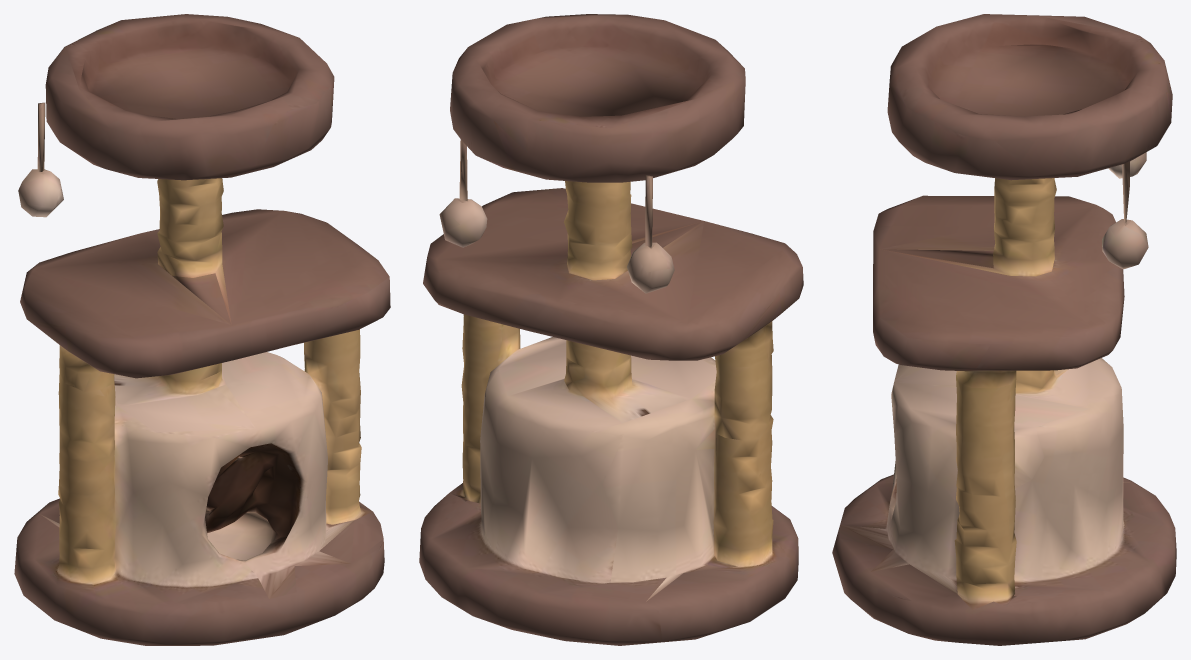
File: cattower.glb
The picture shows the model from 3 angles, left to right: view 1: azimuth 30°, elevation 25°; view 2: azimuth 150°, elevation 25°; view 3: azimuth 270°, elevation 25°; orthographic projection. The views are drawn at different scales.
Visible parts, largest first — view 1: model; view 2: model; view 3: model.
Boxes of the visible parts, box(x1,y1,x2,y2) form: model: box(14, 14, 390, 645); model: box(419, 14, 803, 645); model: box(832, 14, 1176, 645).
Size of the model in its own units: 1.27 by 1.9 by 1.18.
Materials: 1 (1 with a texture image).
